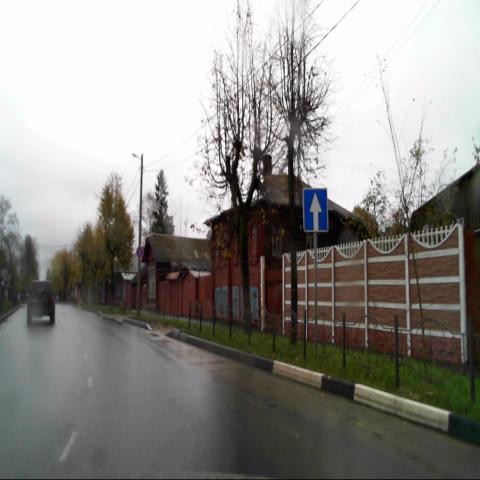5_5: (303, 187, 328, 231)
